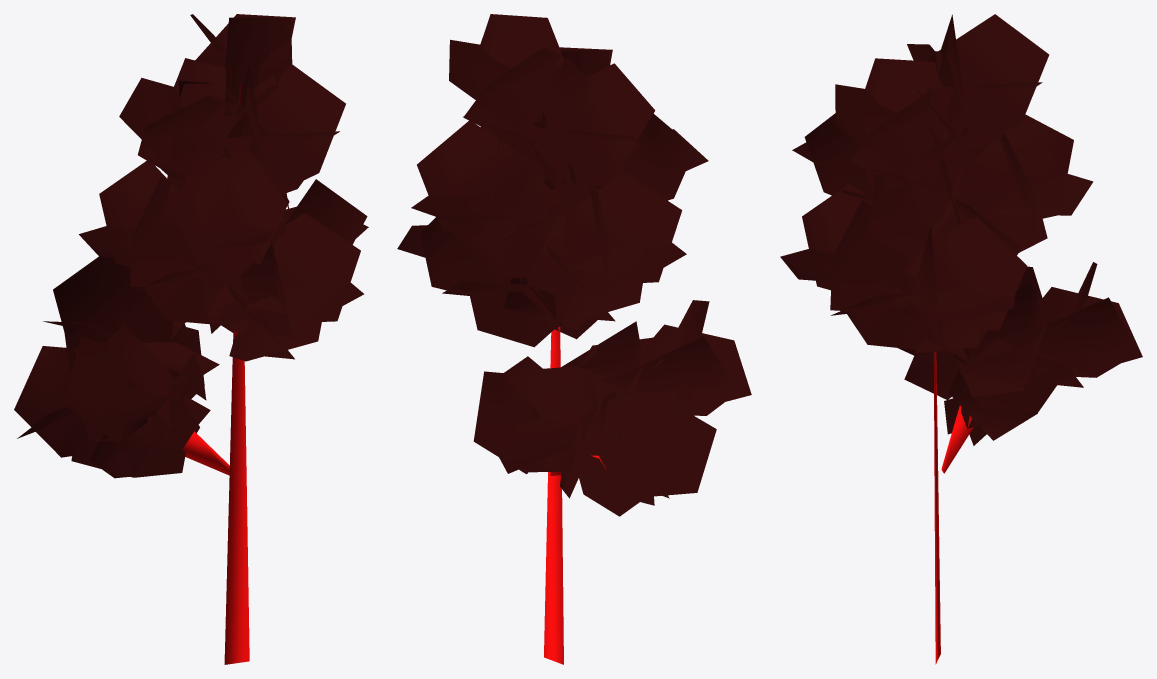
The model's file is SM_Tree_Birch_04_LOD01.fbx.
3 views of the same model, side by side, from view 1: azimuth 30°, elevation 25°; view 2: azimuth 150°, elevation 25°; view 3: azimuth 270°, elevation 25° (orthographic).
Visible parts, largest first — view 1: SM_Tree_Birch_04_LOD01; view 2: SM_Tree_Birch_04_LOD01; view 3: SM_Tree_Birch_04_LOD01.
Boxes of the visible parts, bbox=[...] form: SM_Tree_Birch_04_LOD01: bbox=[14, 14, 368, 664]; SM_Tree_Birch_04_LOD01: bbox=[397, 14, 751, 664]; SM_Tree_Birch_04_LOD01: bbox=[780, 14, 1142, 664].
Size of the model in its own units: 252 by 486 by 248.
